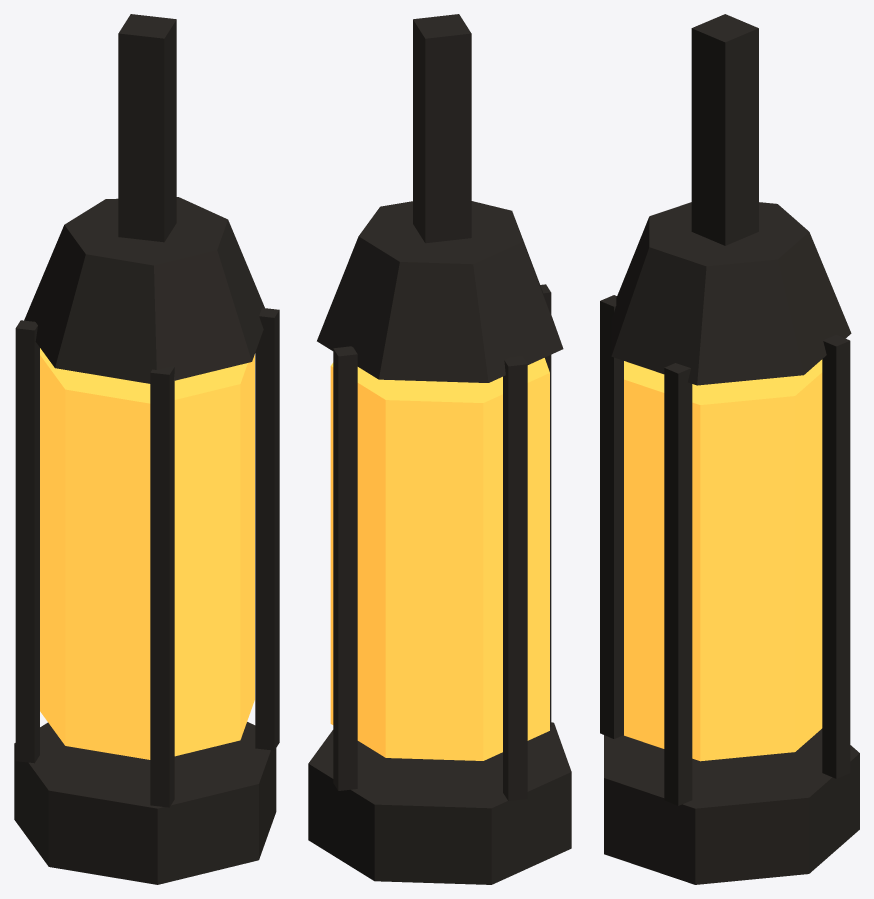
Rendered from npc_lantern.glb.
3 renders of one model, left to right at view 1: azimuth 30°, elevation 25°; view 2: azimuth 150°, elevation 25°; view 3: azimuth 270°, elevation 25°, orthographic.
Parts seen in each view (by area): view 1: part.npc_lantern; view 2: part.npc_lantern; view 3: part.npc_lantern.
Boxes of the visible parts, box(x1,y1,x2,y2) form: part.npc_lantern: box(14, 14, 279, 884); part.npc_lantern: box(308, 14, 571, 884); part.npc_lantern: box(600, 14, 859, 884).
Bounding box in the file's own units: 0.0936 × 0.315 × 0.0926.
